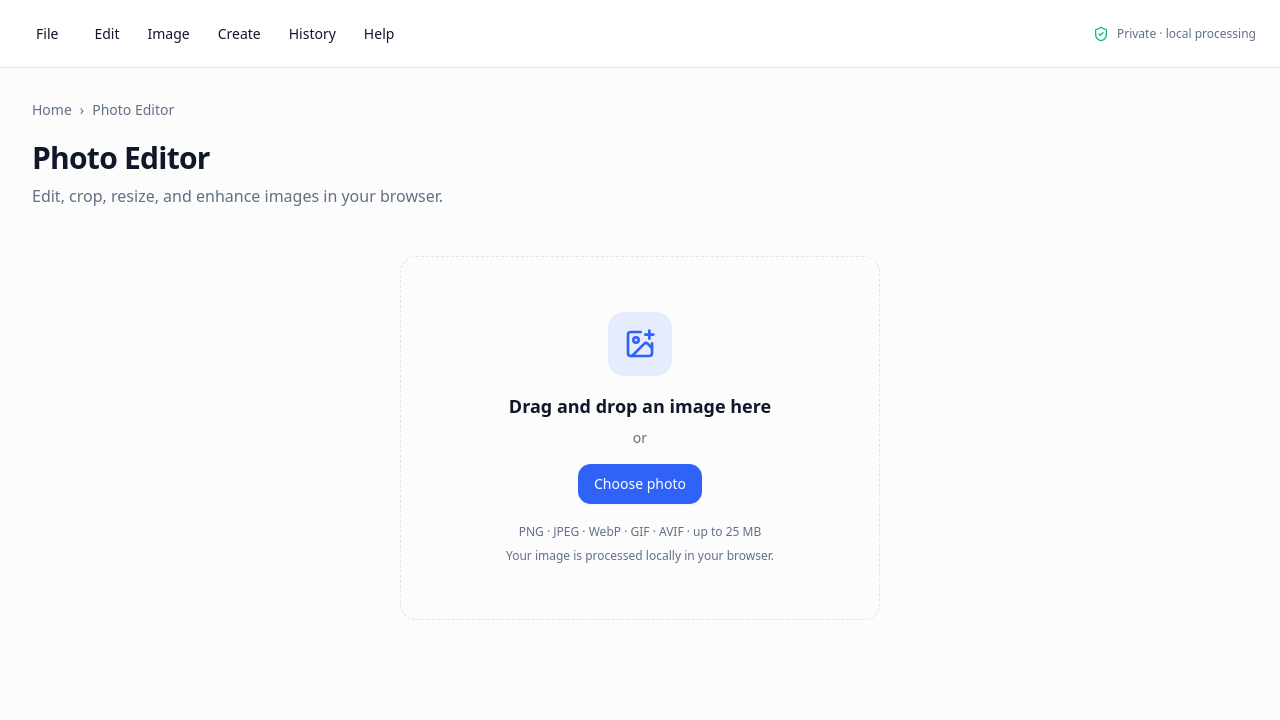
Test: PhotoEditor workspace UX acceptance › opens SVG optimization without requiring a raster photo
Click the button "Create". click: [239, 34]
box: [206,16,273,52]
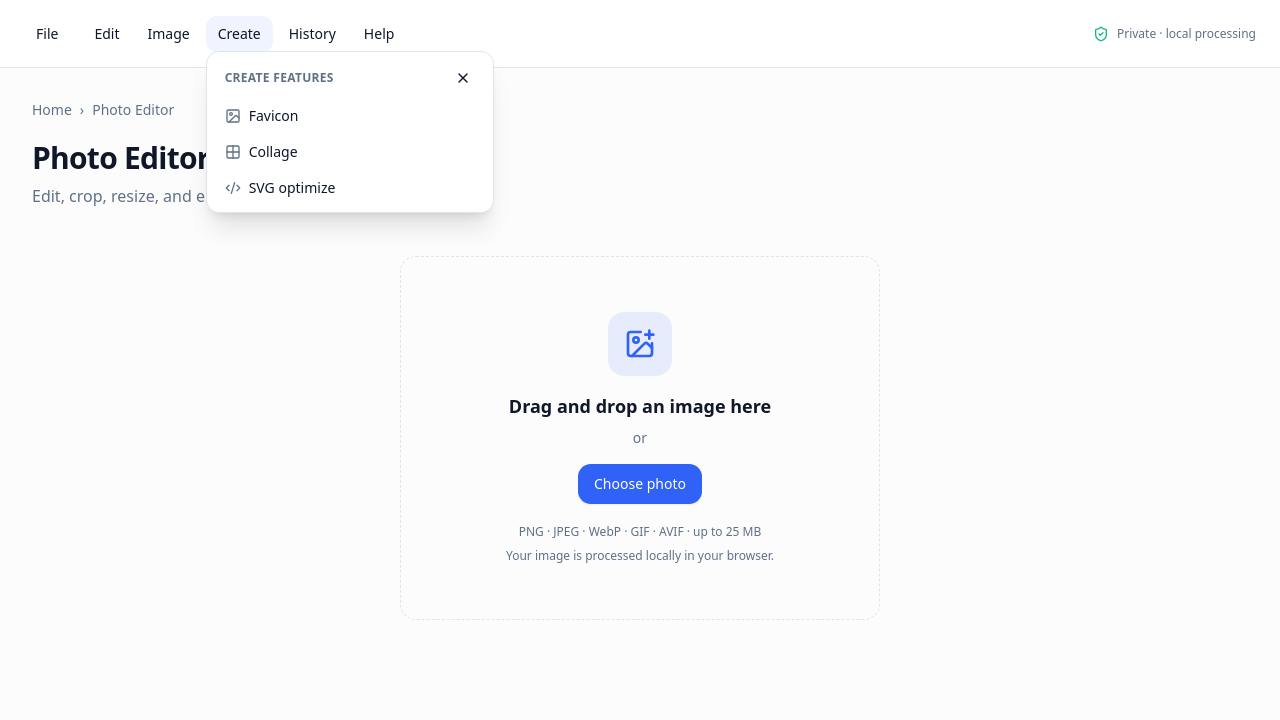
Click the button "SVG optimize". click: [292, 187]
box: [213,170,487,206]
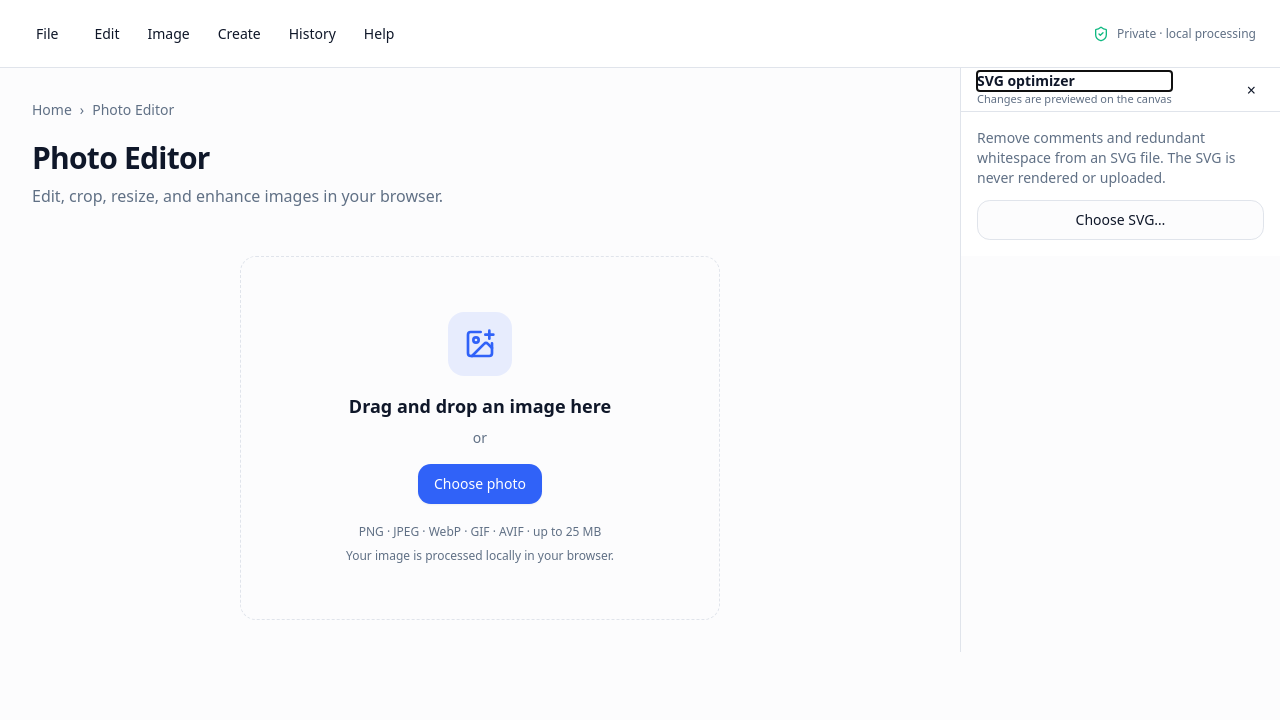
Result: the button "Choose SVG…" is shown at [977,200,1264,240]
Result: the text "Remove comments and redundant whitespace" is shown at [977,128,1236,187]
